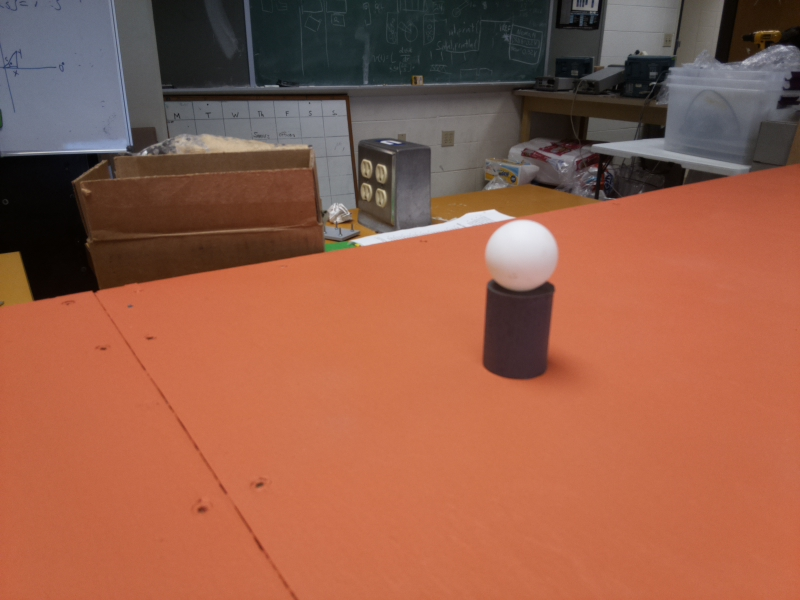obstacle: (479, 219, 562, 378)
